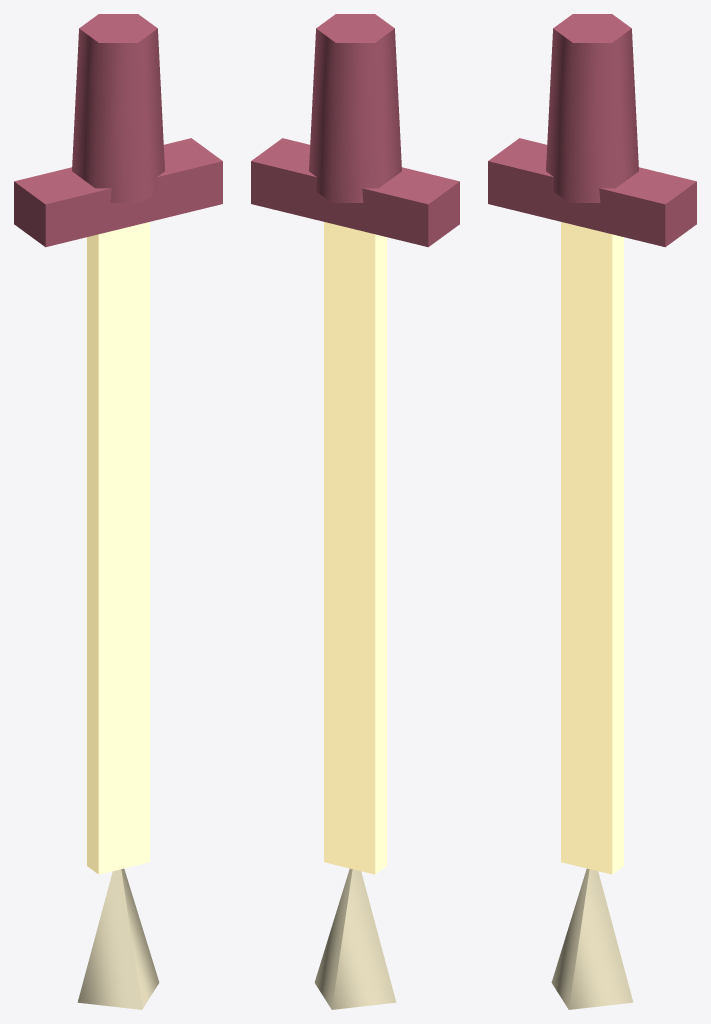
The model's file is efedagger.glb.
3 renders of one model, left to right at view 1: azimuth 30°, elevation 25°; view 2: azimuth 150°, elevation 25°; view 3: azimuth 330°, elevation 25°, orthographic.
Size of the model in its own units: 0.26 by 1.35 by 0.12.
